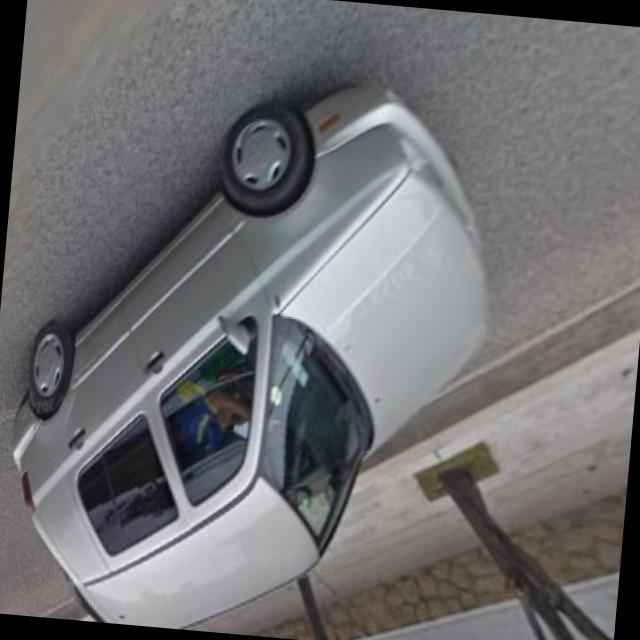car: (0, 30, 511, 640)
